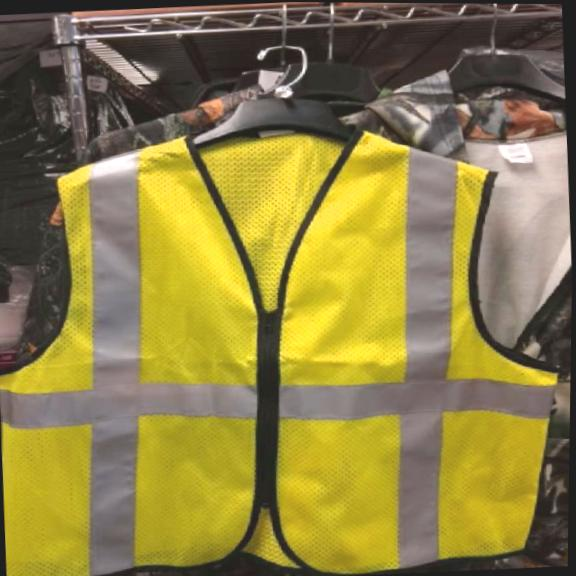safety_vest: (0, 111, 568, 576)
